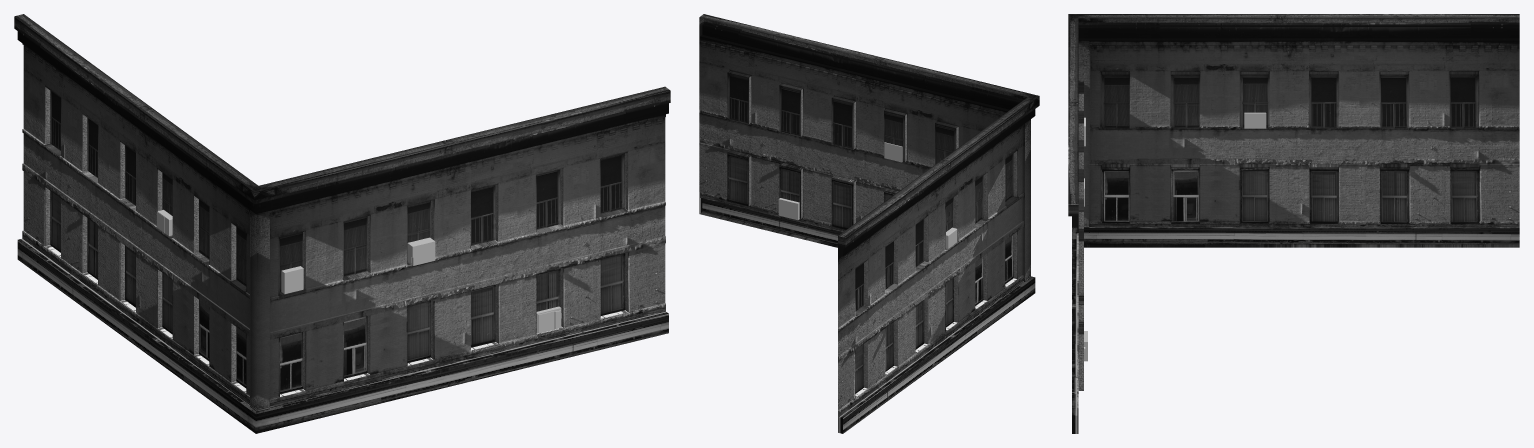
File: skidrow_building_6.fbx
3 views of the same model, side by side, from view 1: azimuth 30°, elevation 25°; view 2: azimuth 150°, elevation 25°; view 3: azimuth 270°, elevation 25° (orthographic). The views are drawn at different scales.
Parts seen in each view (by area): view 1: skidrow_building_6; view 2: skidrow_building_6; view 3: skidrow_building_6.
Boxes of the visible parts, x1,y1,x2,y2 form: skidrow_building_6: (14, 14, 670, 433); skidrow_building_6: (699, 14, 1039, 433); skidrow_building_6: (1068, 14, 1519, 433).
Size of the model in its own units: 1413 by 792 by 1413.
